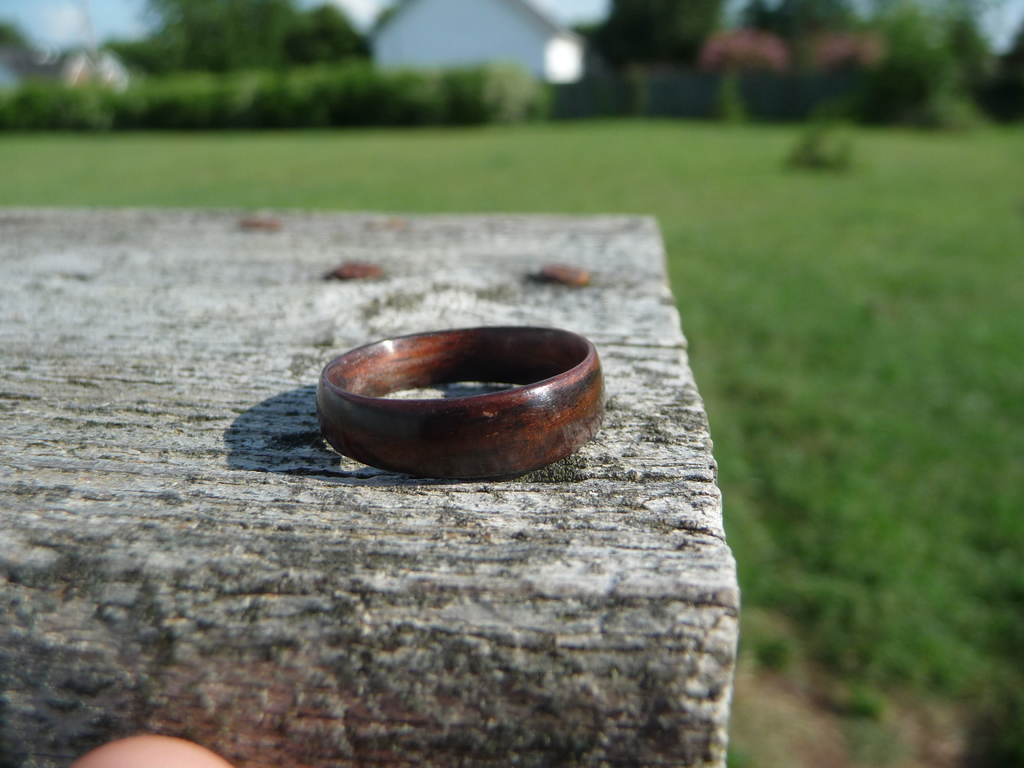Tree: (97, 0, 380, 78)
